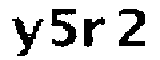2: (115, 5, 148, 53)
5: (48, 6, 78, 48)
r: (82, 17, 107, 48)
y: (9, 14, 44, 60)
